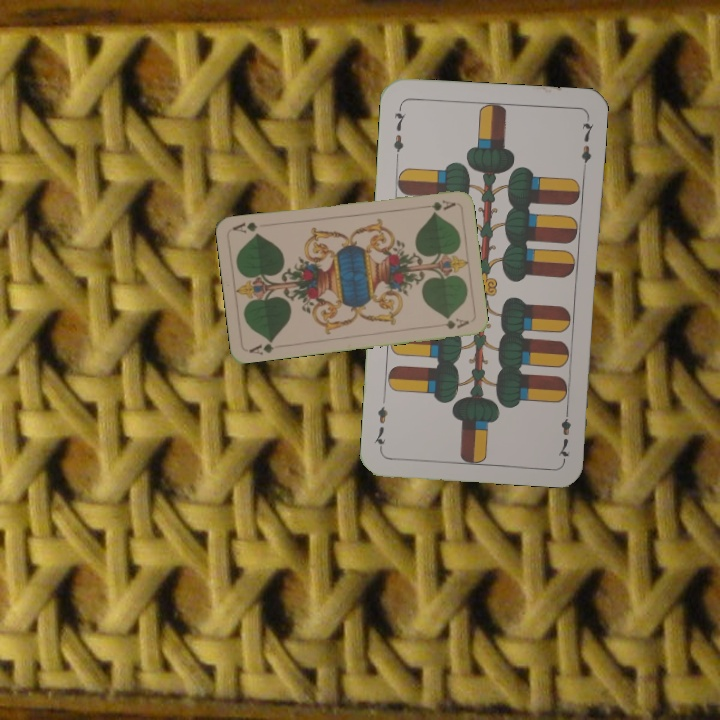E7: (554, 402, 574, 461), (389, 102, 408, 161)
GA: (245, 336, 276, 357), (428, 196, 458, 213)
